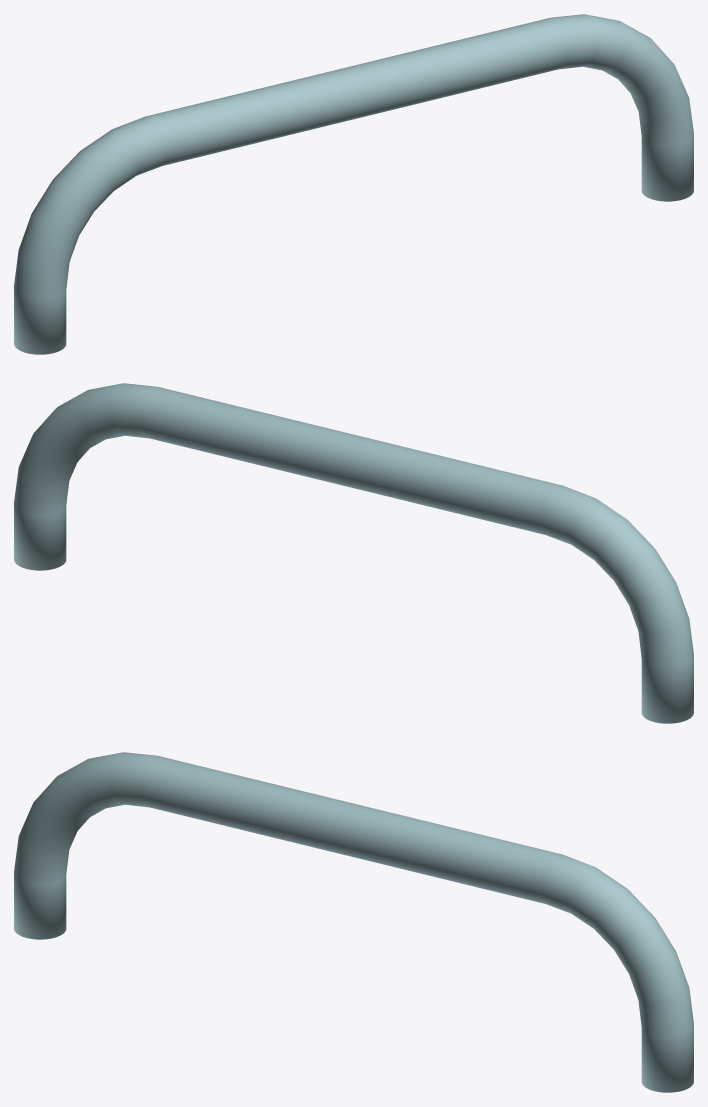
The model's file is StandaloneBarrierPipe.fbx.
3 renders of one model, top to bottom at view 1: azimuth 30°, elevation 25°; view 2: azimuth 150°, elevation 25°; view 3: azimuth 330°, elevation 25°, orthographic.
Parts seen in each view (by area): view 1: StandaloneBarrierPipe; view 2: StandaloneBarrierPipe; view 3: StandaloneBarrierPipe.
Boxes of the visible parts, <box> form: StandaloneBarrierPipe: <box>14,14,693,354</box>; StandaloneBarrierPipe: <box>14,383,693,723</box>; StandaloneBarrierPipe: <box>14,752,693,1092</box>.
Size of what is drawn, in the model's own units: 13.8 by 0.9321 by 3.89.
